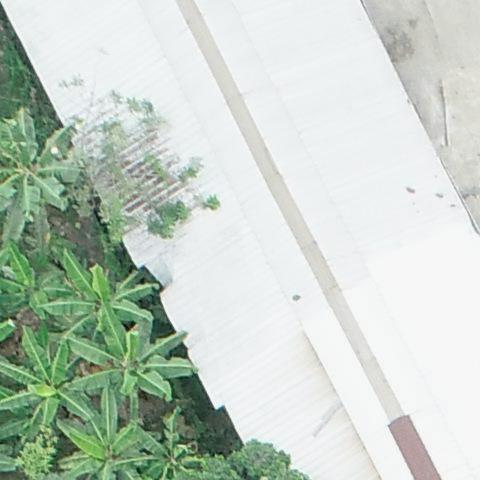Banana-plant: (42, 248, 158, 349), (0, 104, 95, 227), (63, 320, 196, 404), (0, 325, 94, 436), (50, 386, 155, 480), (0, 234, 71, 350), (133, 402, 211, 480)
